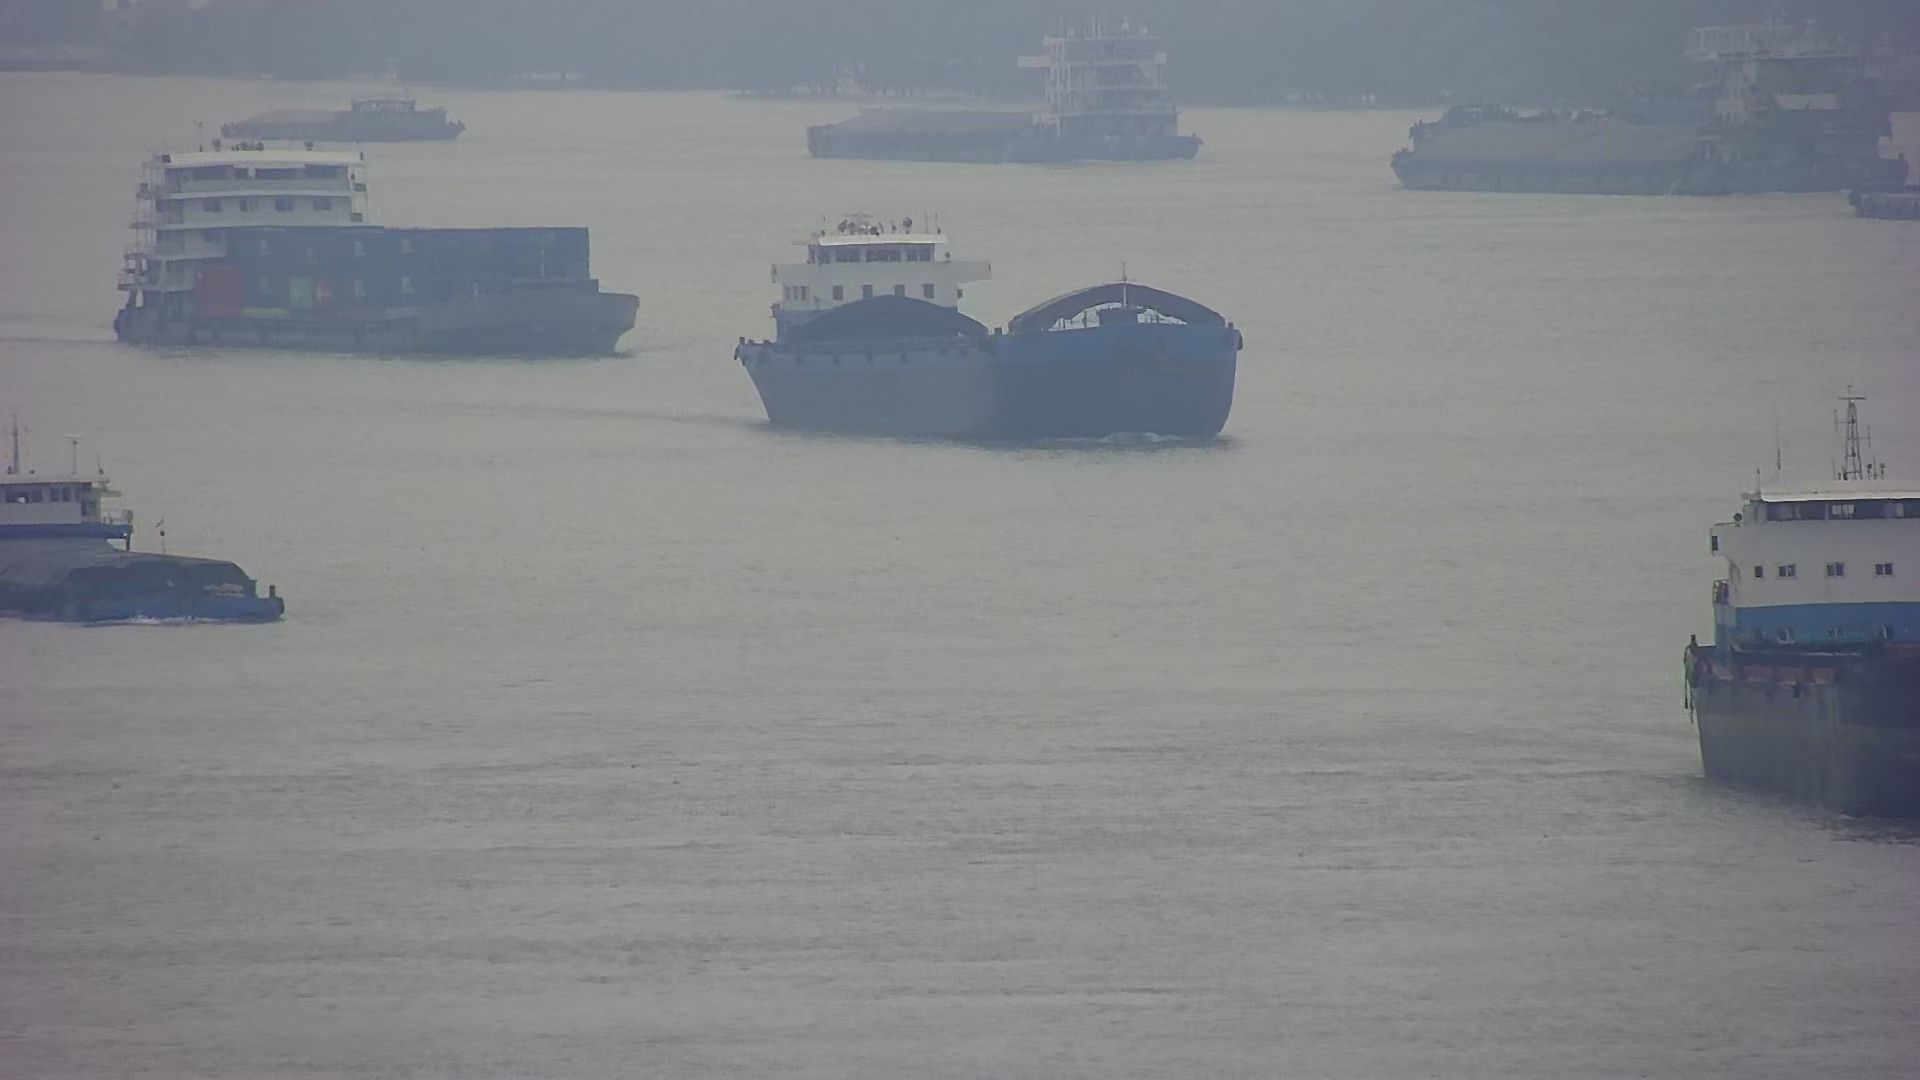ship: (735, 218, 1244, 448), (116, 140, 640, 359), (1687, 396, 1920, 822), (1395, 26, 1920, 200), (3, 415, 291, 629), (808, 29, 1201, 160), (224, 84, 463, 149)
